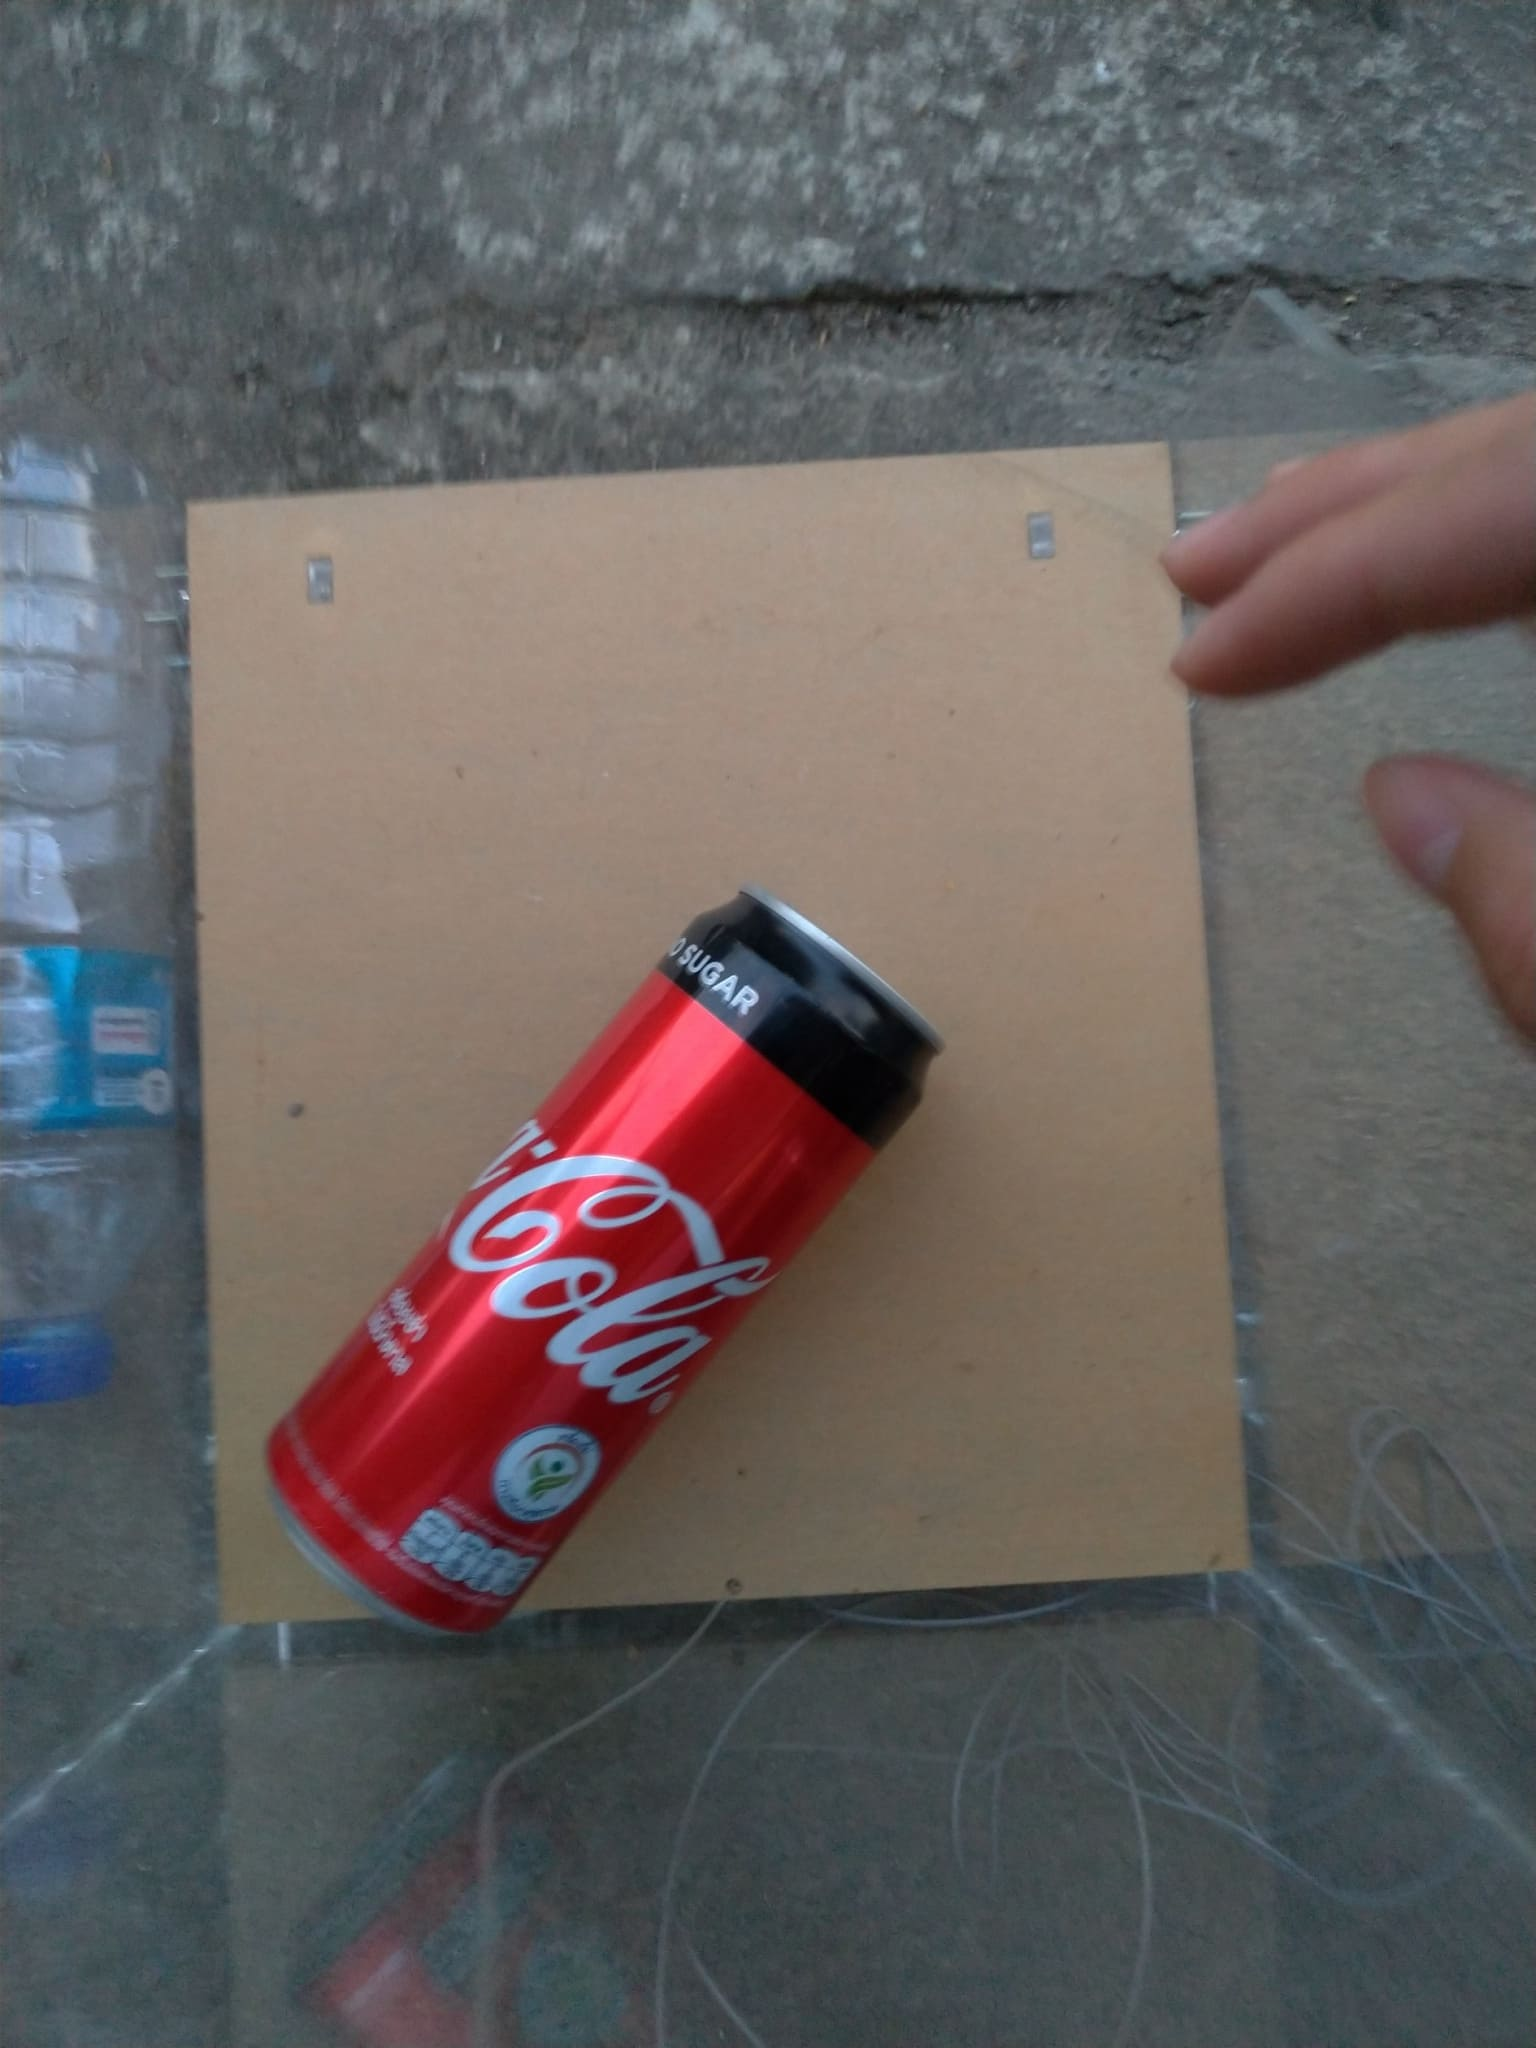AlCan: (274, 887, 941, 1645)
PlasticBottle: (2, 429, 189, 1426)
